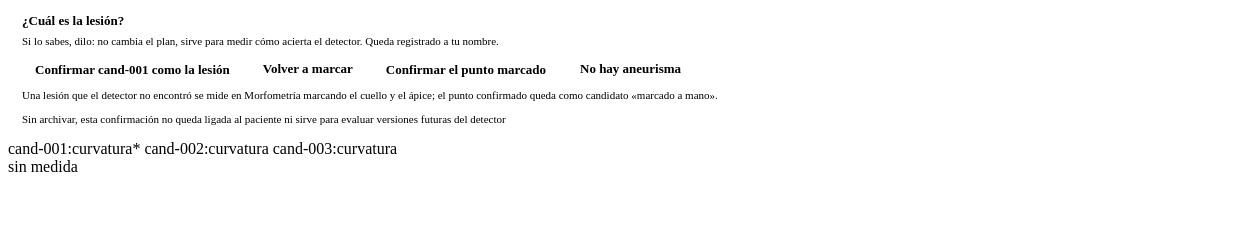
Test: confirmar el punto marcado › si el punto cae sobre un candidato que ya está, no añade nada
Click the button "Confirmar el punto marcado". click: [466, 70]
box: left=373, top=60, right=559, bottom=78
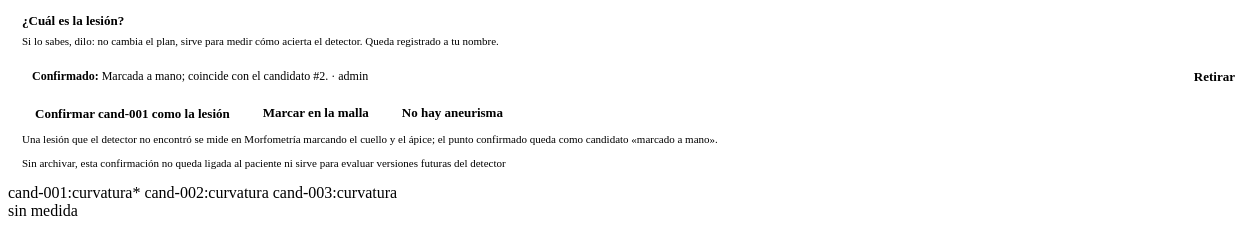
Check: the text with test id "lista" reads "cand-001:curvatura* cand-002:curvatura cand-003:curvatura", box left=8, top=184, right=397, bottom=200
Check: the text "coincide con el candidato #2" is shown, box left=102, top=69, right=328, bottom=83
